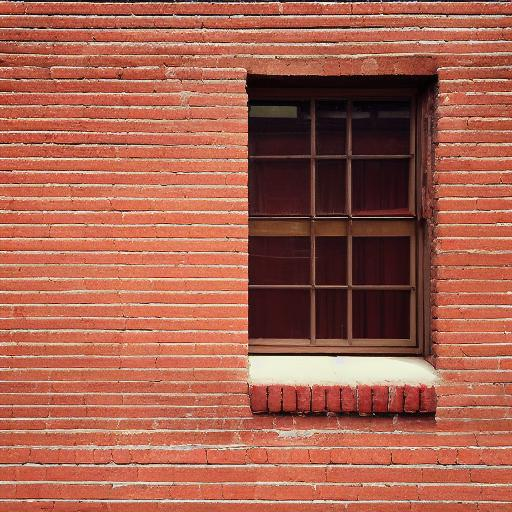Window: (246, 58, 436, 417)
